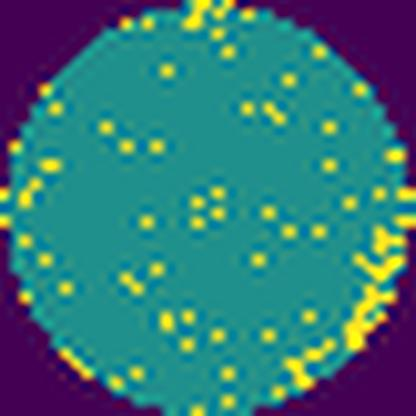Edge-Loc: (348, 184, 415, 354)
